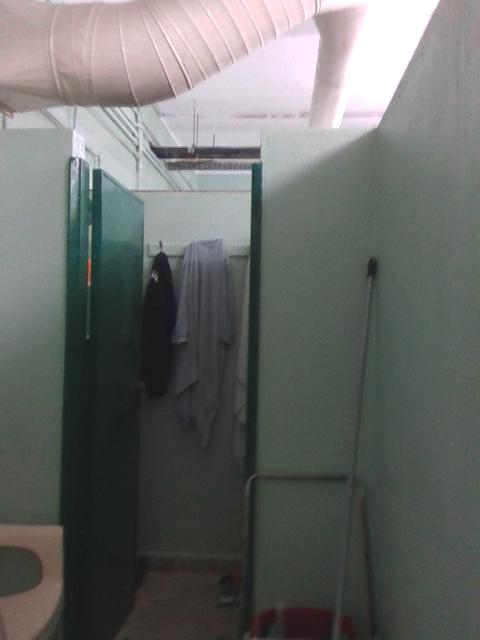open_door: (62, 129, 263, 639)
